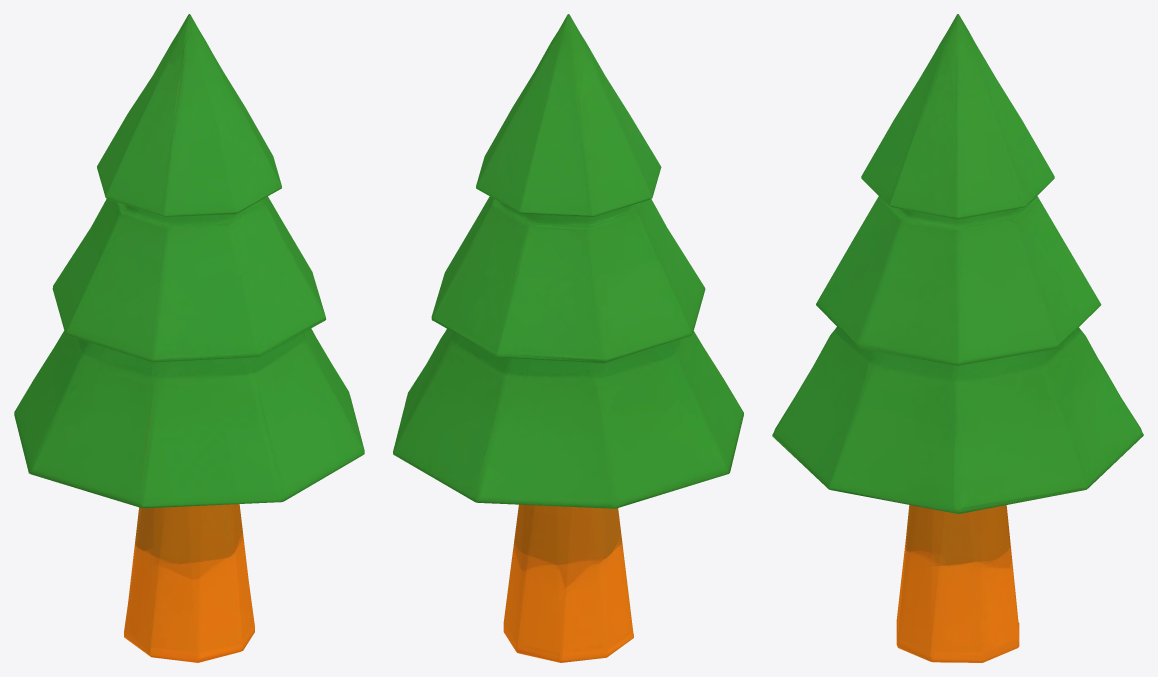
The model's file is env_pine.glb.
3 views of the same model, side by side, from view 1: azimuth 30°, elevation 25°; view 2: azimuth 150°, elevation 25°; view 3: azimuth 270°, elevation 25° (orthographic).
Bounding box in the file's own units: 1.03 × 1.91 × 1.03.
1 material, 1 textured.
